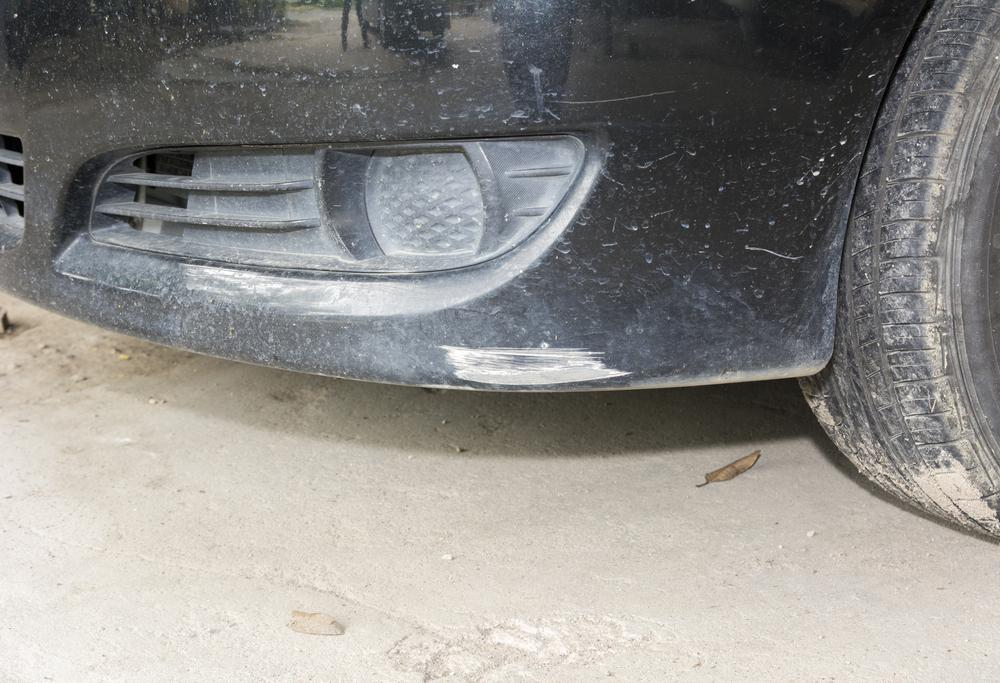scratch: (437, 341, 645, 392)
